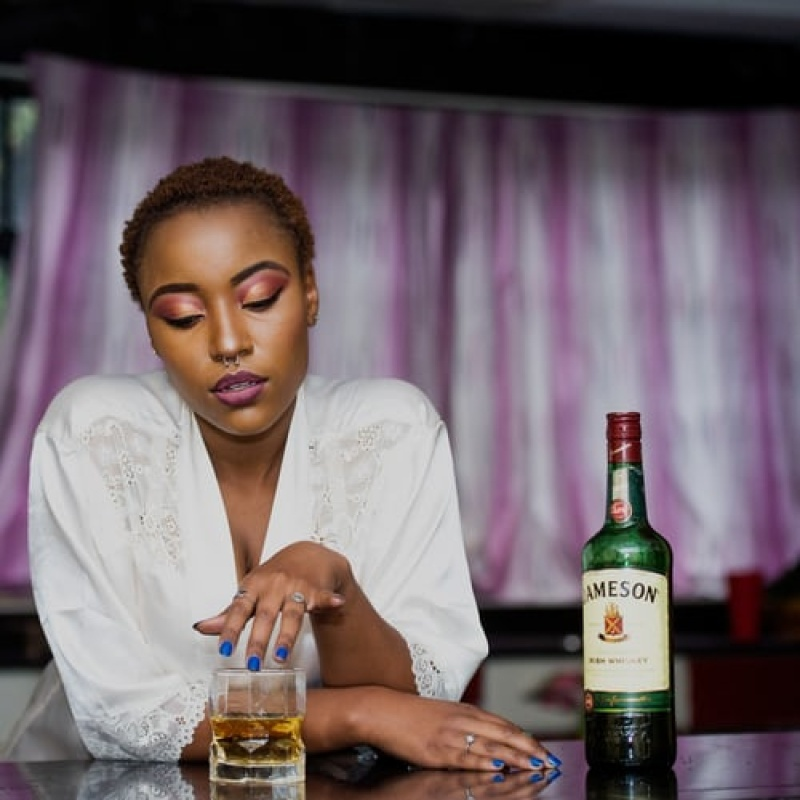whiskey: (204, 664, 316, 789)
